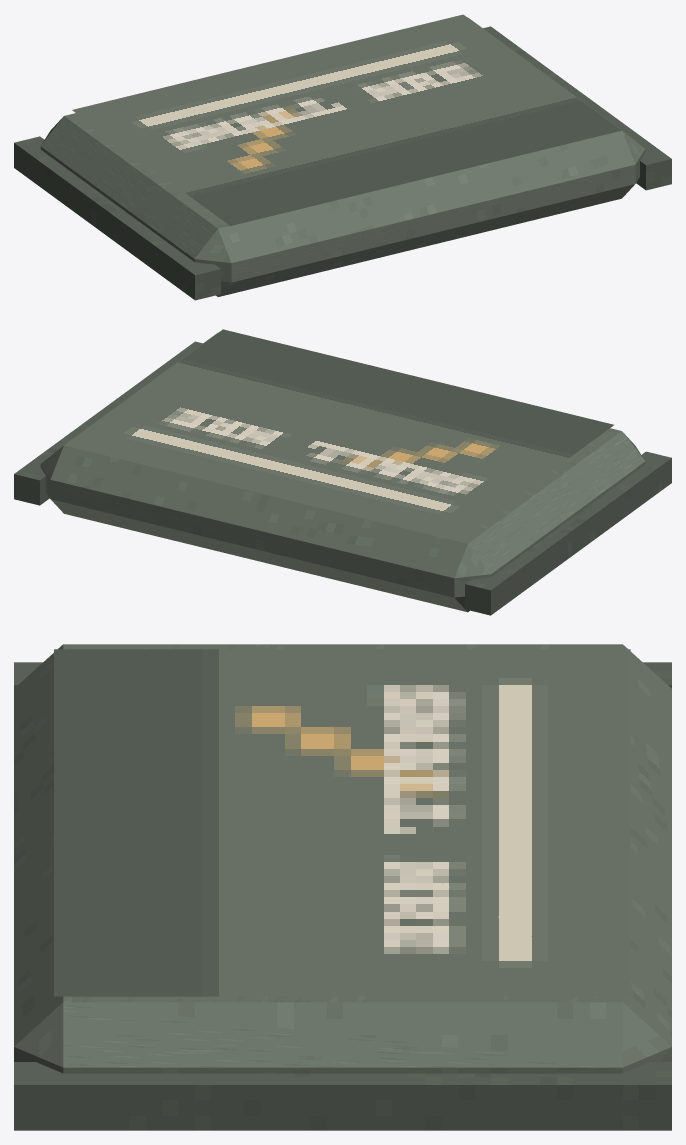
Rendered from mre_bag_small.glb.
3 views of the same model, one above another, from view 1: azimuth 30°, elevation 25°; view 2: azimuth 150°, elevation 25°; view 3: azimuth 270°, elevation 25° (orthographic). The views are drawn at different scales.
Visible parts, largest first — view 1: block_printed sachet panel, block_filled laminated sachet, block_crimped closure (×2); view 2: block_printed sachet panel, block_filled laminated sachet, block_crimped closure (×2); view 3: block_printed sachet panel, block_filled laminated sachet, block_crimped closure (×2).
Part boxes in pixels (bbox=[...]): block_printed sachet panel: bbox=[72, 14, 621, 225]; block_filled laminated sachet: bbox=[40, 17, 645, 296]; block_crimped closure (×2): bbox=[14, 26, 671, 300]; block_printed sachet panel: bbox=[64, 329, 613, 540]; block_filled laminated sachet: bbox=[40, 333, 645, 612]; block_crimped closure (×2): bbox=[14, 341, 671, 615]; block_printed sachet panel: bbox=[54, 649, 630, 996]; block_filled laminated sachet: bbox=[14, 644, 671, 1073]; block_crimped closure (×2): bbox=[14, 662, 671, 1130].
Size of the model in its own units: 0.0887 by 0.0125 by 0.0583.
1 material, 1 textured.
